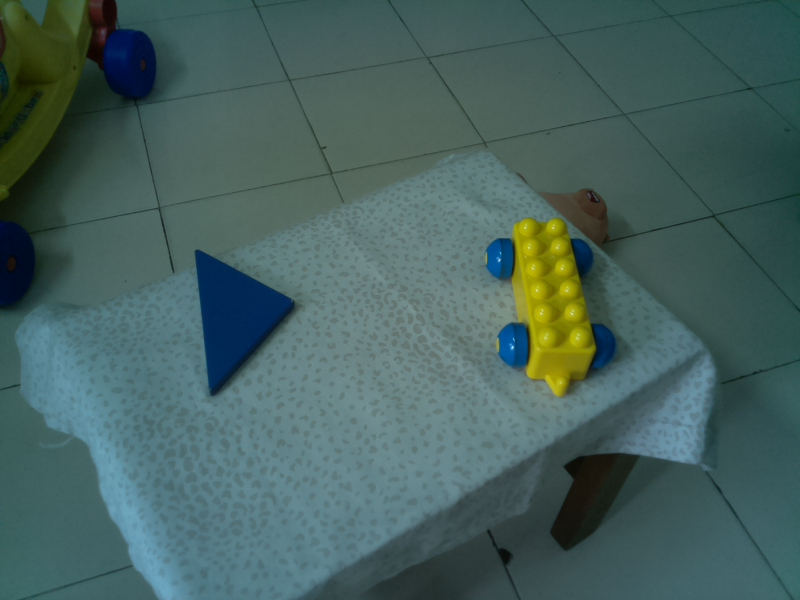Triangle: (189, 245, 300, 400)
toy_Car: (483, 216, 619, 398)
